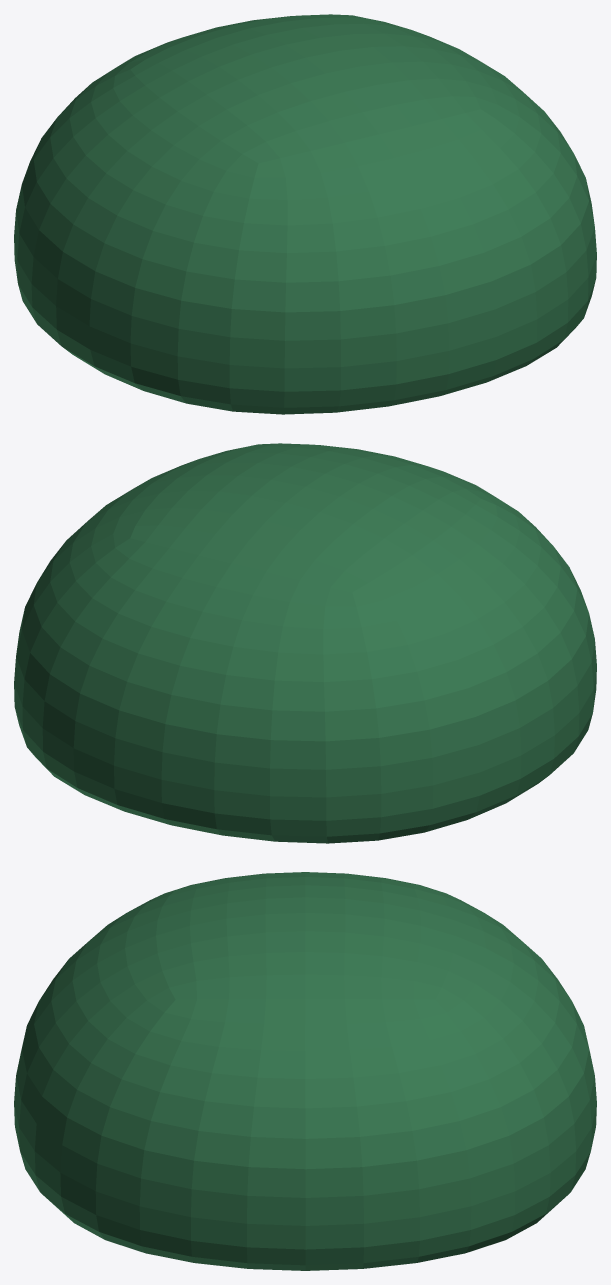
Rendered from Bush1 1.fbx.
The picture shows the model from 3 angles, top to bottom: view 1: azimuth 30°, elevation 25°; view 2: azimuth 150°, elevation 25°; view 3: azimuth 270°, elevation 25°; orthographic projection.
Visible parts, largest first — view 1: Bush; view 2: Bush; view 3: Bush.
Part boxes in pixels (x1,y1,x2,y2): Bush: (14,14,596,414); Bush: (14,443,596,843); Bush: (14,872,596,1270).
Bounding box in the file's own units: 3.68 × 1.77 × 3.68.
